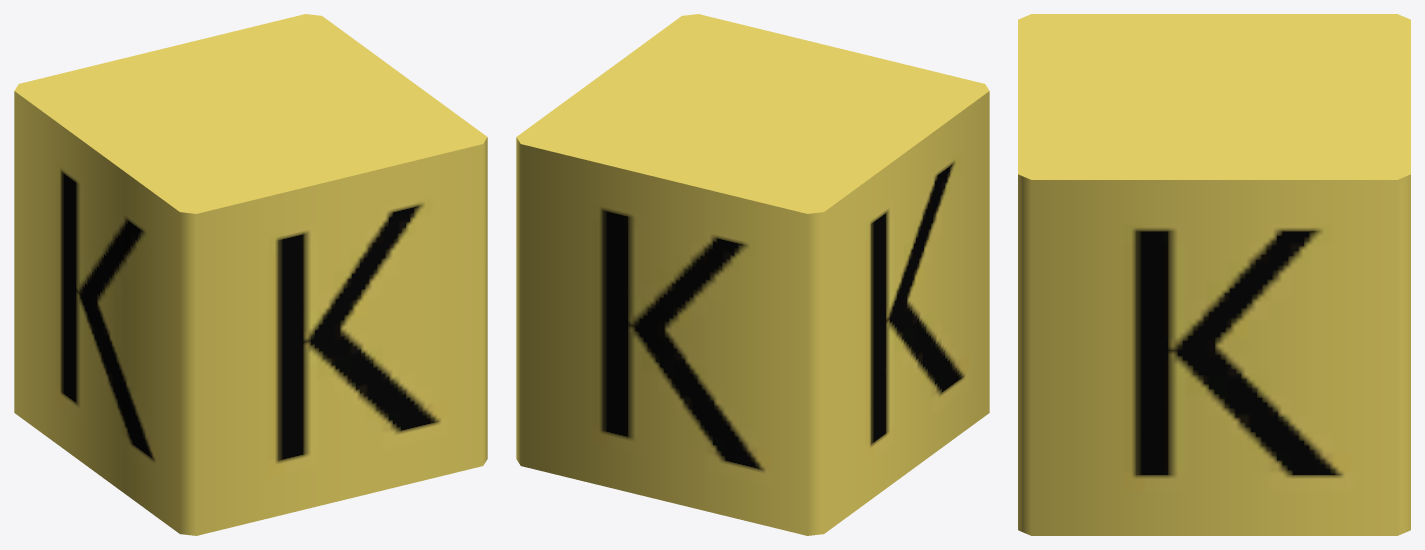
The model's file is blockK.dae.
3 renders of one model, left to right at view 1: azimuth 30°, elevation 25°; view 2: azimuth 150°, elevation 25°; view 3: azimuth 270°, elevation 25°, orthographic. The views are drawn at different scales.
Parts seen in each view (by area): view 1: pCube11; view 2: pCube11; view 3: pCube11.
Boxes of the visible parts, bbox=[...] form: pCube11: bbox=[14, 14, 487, 535]; pCube11: bbox=[516, 14, 989, 535]; pCube11: bbox=[1018, 14, 1410, 535].
Bounding box in the file's own units: 0.4263 × 0.4263 × 0.4263.
Materials: 1 (1 with a texture image).
